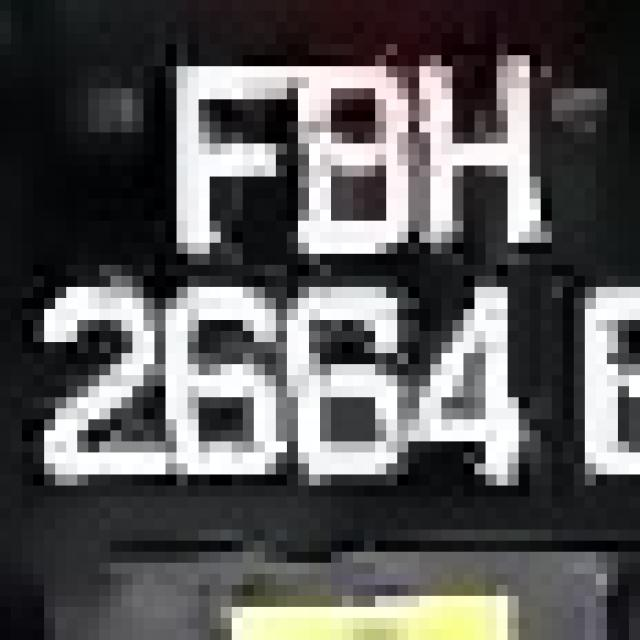2: (22, 242, 155, 508)
4: (397, 276, 552, 496)
6: (243, 253, 408, 508), (132, 264, 287, 508)
B: (276, 55, 408, 287)
F: (132, 22, 298, 243)
H: (375, 33, 552, 265)
